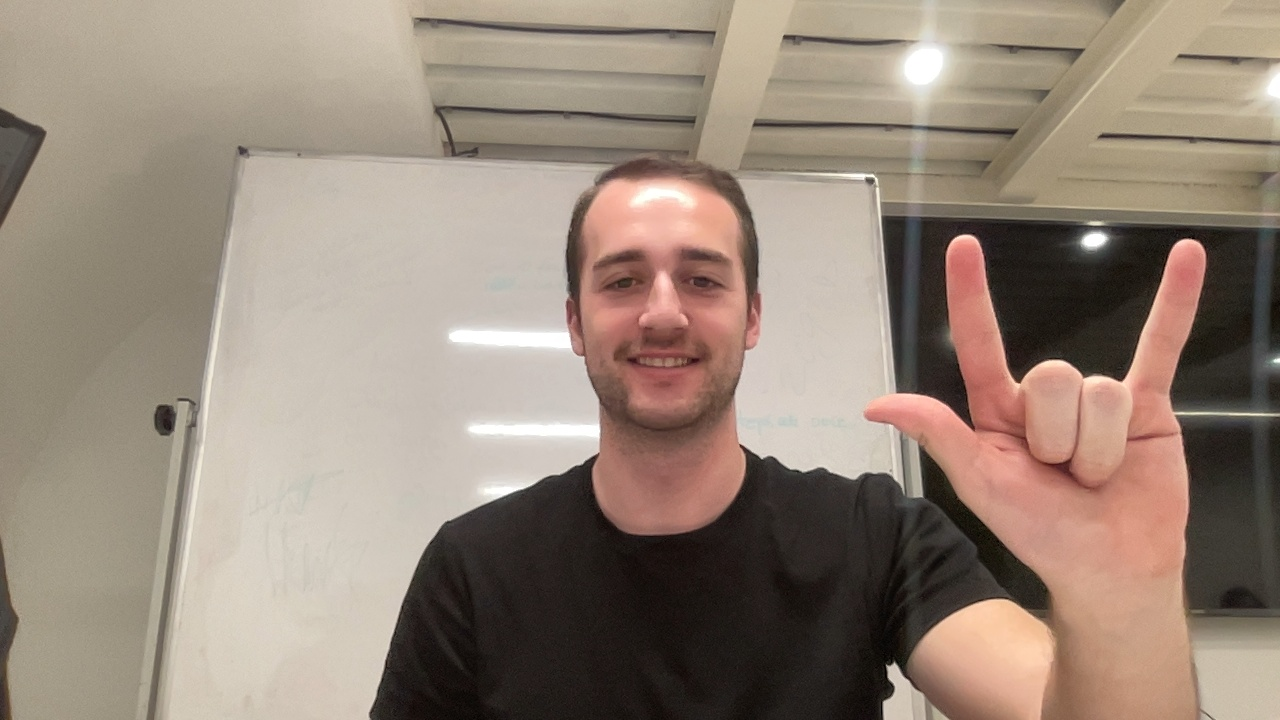I Love You: (860, 229, 1238, 617)
